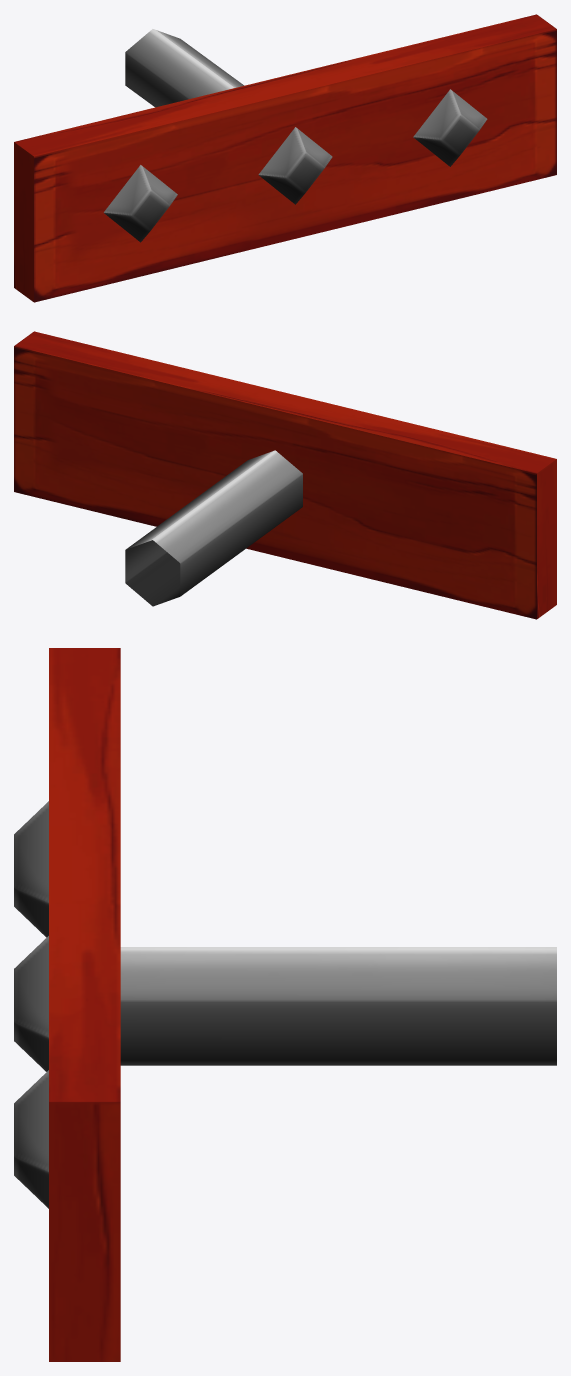
Rendered from wall_red_02.fbx.
3 renders of one model, top to bottom at view 1: azimuth 30°, elevation 25°; view 2: azimuth 150°, elevation 25°; view 3: azimuth 270°, elevation 25°, orthographic. The views are drawn at different scales.
Visible parts, largest first — view 1: wall_red_02; view 2: wall_red_02; view 3: wall_red_02.
Part boxes in pixels (bbox=[...]): wall_red_02: bbox=[14, 14, 556, 302]; wall_red_02: bbox=[14, 331, 556, 619]; wall_red_02: bbox=[14, 648, 556, 1361].
Size of the model in its own units: 150 by 40 by 75.79.
